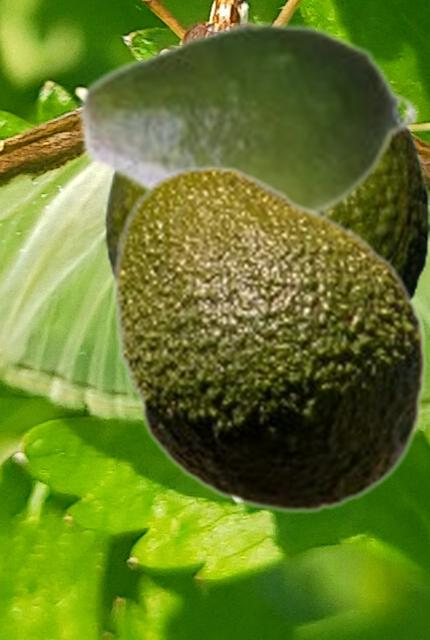avocado: (111, 164, 427, 514), (74, 16, 420, 217), (104, 129, 428, 300)
